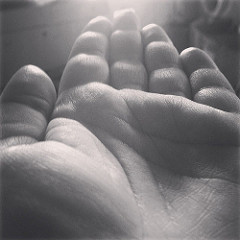palm: (50, 83, 230, 237)
